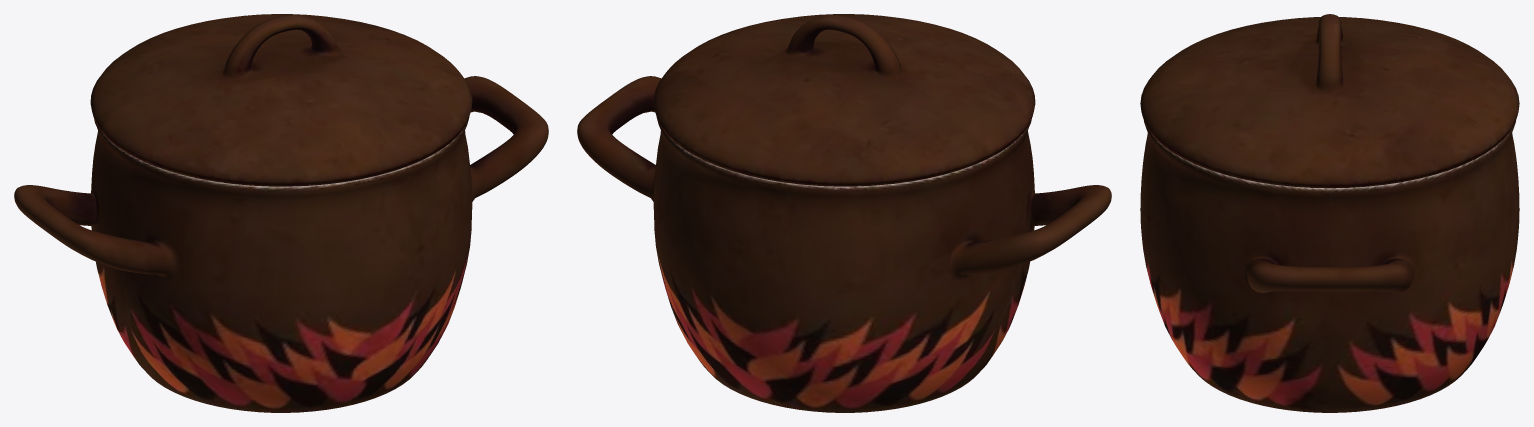
Rendered from pot_enamel_01.glb.
3 views of the same model, side by side, from view 1: azimuth 30°, elevation 25°; view 2: azimuth 150°, elevation 25°; view 3: azimuth 270°, elevation 25° (orthographic).
Parts seen in each view (by area): view 1: pot_enamel_01_lid; view 2: pot_enamel_01_lid; view 3: pot_enamel_01_lid.
Part boxes in pixels (left/top/right/bottom): pot_enamel_01_lid: left=14, top=14, right=548, bottom=412; pot_enamel_01_lid: left=577, top=14, right=1111, bottom=412; pot_enamel_01_lid: left=1140, top=14, right=1519, bottom=412.
Bounding box in the file's own units: 0.2629 × 0.1783 × 0.1805.
Materials: 1 (1 with a texture image).
